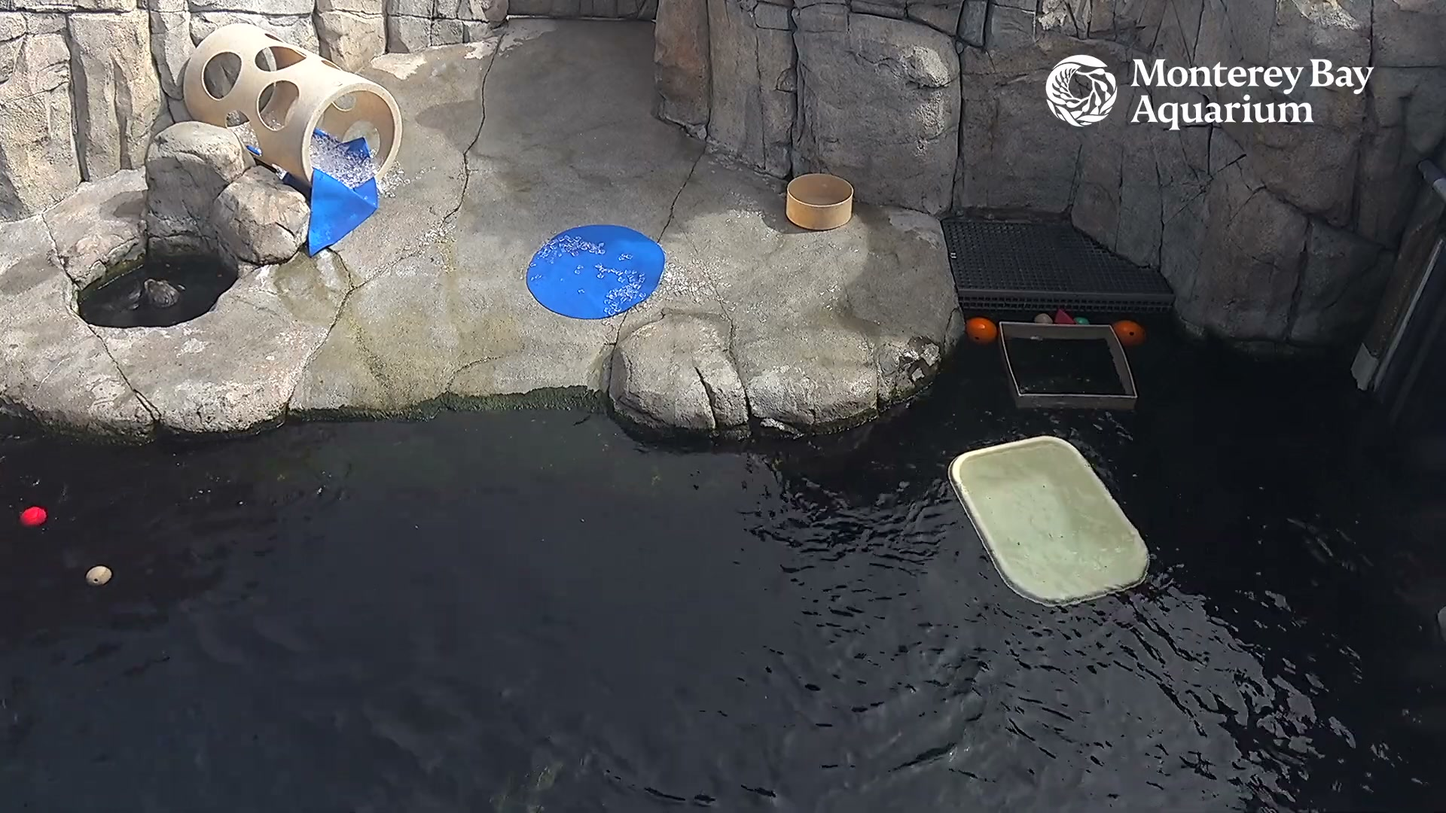Southern Sea Otter: (123, 267, 192, 324)
